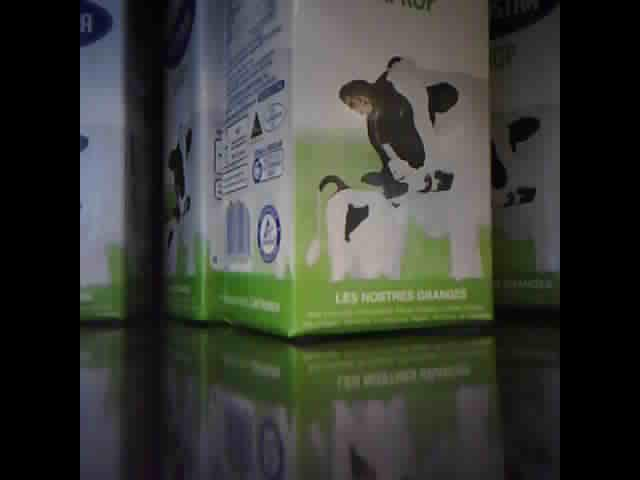leche: (218, 4, 493, 338), (490, 4, 557, 309), (80, 2, 141, 322), (161, 2, 217, 322)
